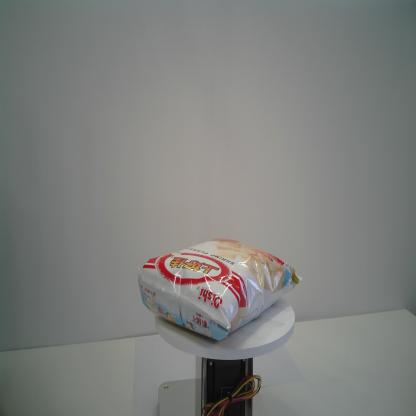Puffed Food: (138, 236, 303, 341)
